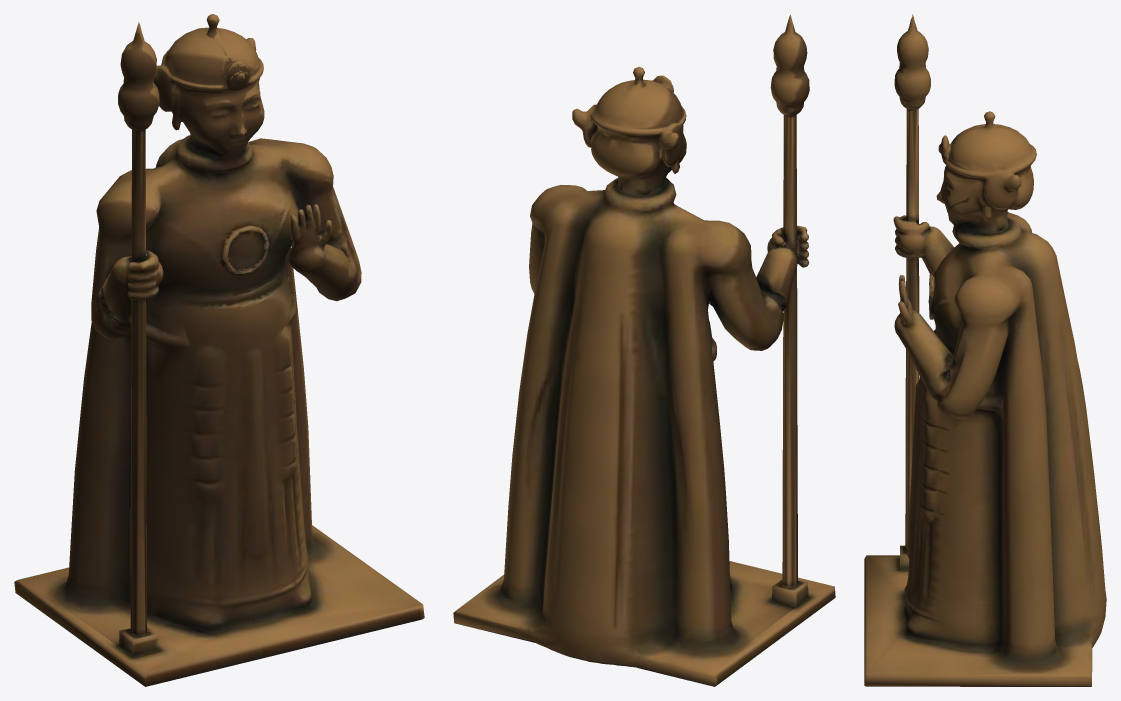
The model's file is hophap_thien.glb.
The picture shows the model from 3 angles, left to right: view 1: azimuth 30°, elevation 25°; view 2: azimuth 150°, elevation 25°; view 3: azimuth 270°, elevation 25°; orthographic projection. The views are drawn at different scales.
Visible parts, largest first — view 1: hophap_thien; view 2: hophap_thien; view 3: hophap_thien.
Boxes of the visible parts, x1,y1,x2,y2 form: hophap_thien: (14,14,424,686); hophap_thien: (453,14,835,686); hophap_thien: (864,14,1106,686).
Size of the model in its own units: 0.9999 by 2.18 by 0.8504.
1 material, 1 textured.
